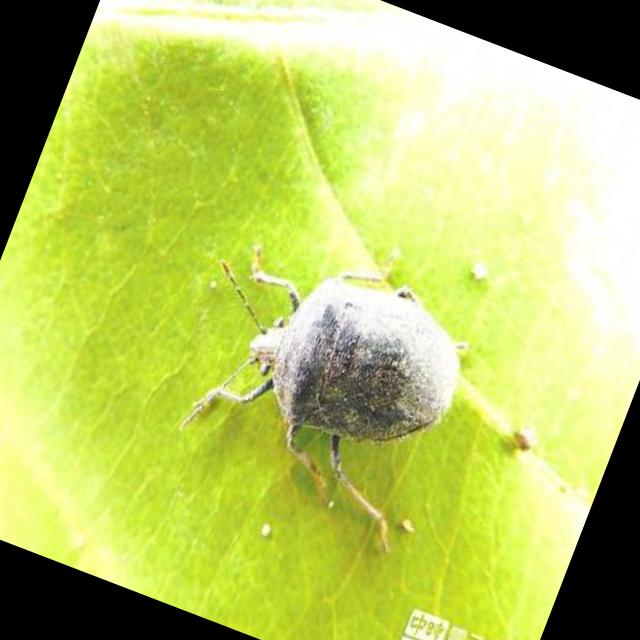rice-bug: (159, 212, 496, 548)
